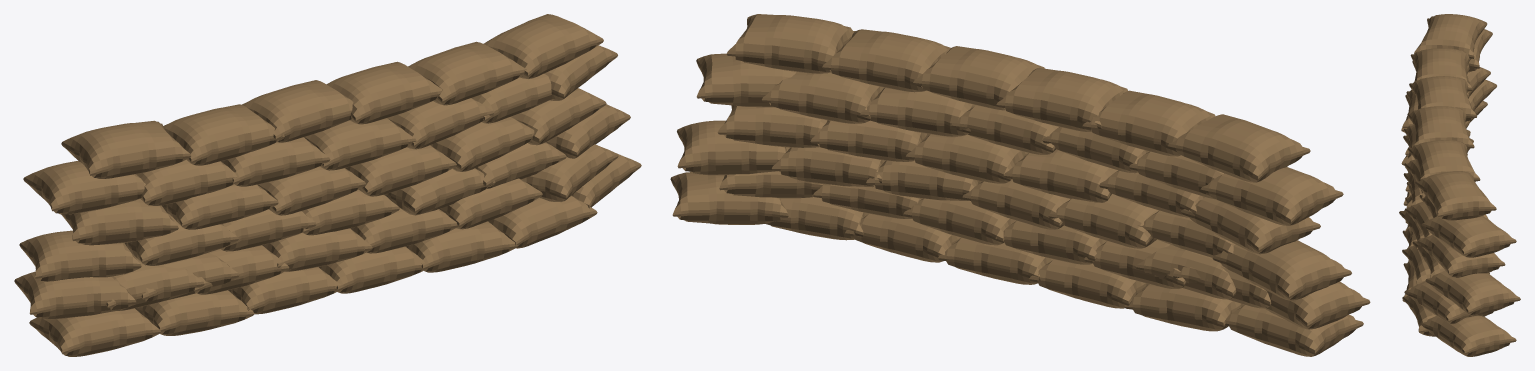
File: SANDGABS.fbx
3 views of the same model, side by side, from view 1: azimuth 30°, elevation 25°; view 2: azimuth 150°, elevation 25°; view 3: azimuth 270°, elevation 25° (orthographic). The views are drawn at different scales.
Visible parts, largest first — view 1: Plane.001; view 2: Plane.001; view 3: Plane.001.
Boxes of the visible parts, x1,y1,x2,y2 form: Plane.001: (14,14,641,356); Plane.001: (670,14,1370,356); Plane.001: (1399,14,1520,356).
Bounding box in the file's own units: 1819 × 564 × 390.
